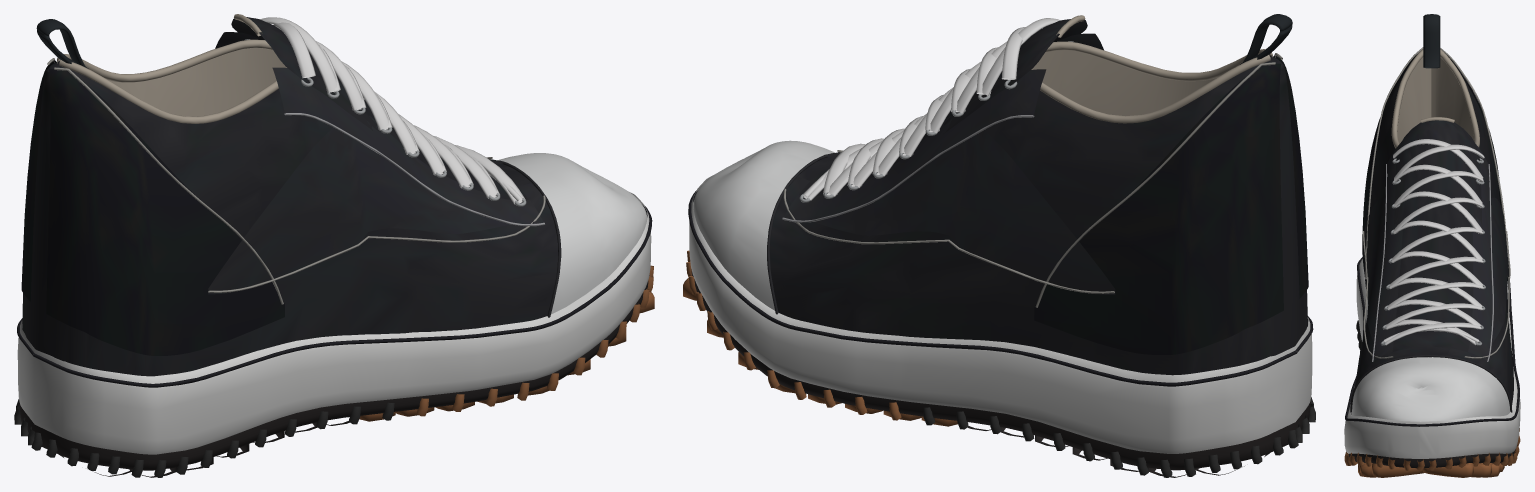
The model's file is 07-high-platform.glb.
The picture shows the model from 3 angles, left to right: view 1: azimuth 30°, elevation 25°; view 2: azimuth 150°, elevation 25°; view 3: azimuth 270°, elevation 25°; orthographic projection. The views are drawn at different scales.
Visible parts, largest first — view 1: outsole; view 2: outsole; view 3: outsole.
Boxes of the visible parts, x1,y1,x2,y2 form: outsole: [14, 14, 654, 477]; outsole: [683, 14, 1315, 477]; outsole: [1344, 14, 1520, 477].
Size of the model in its own units: 0.2903 by 0.2042 by 0.1063.
